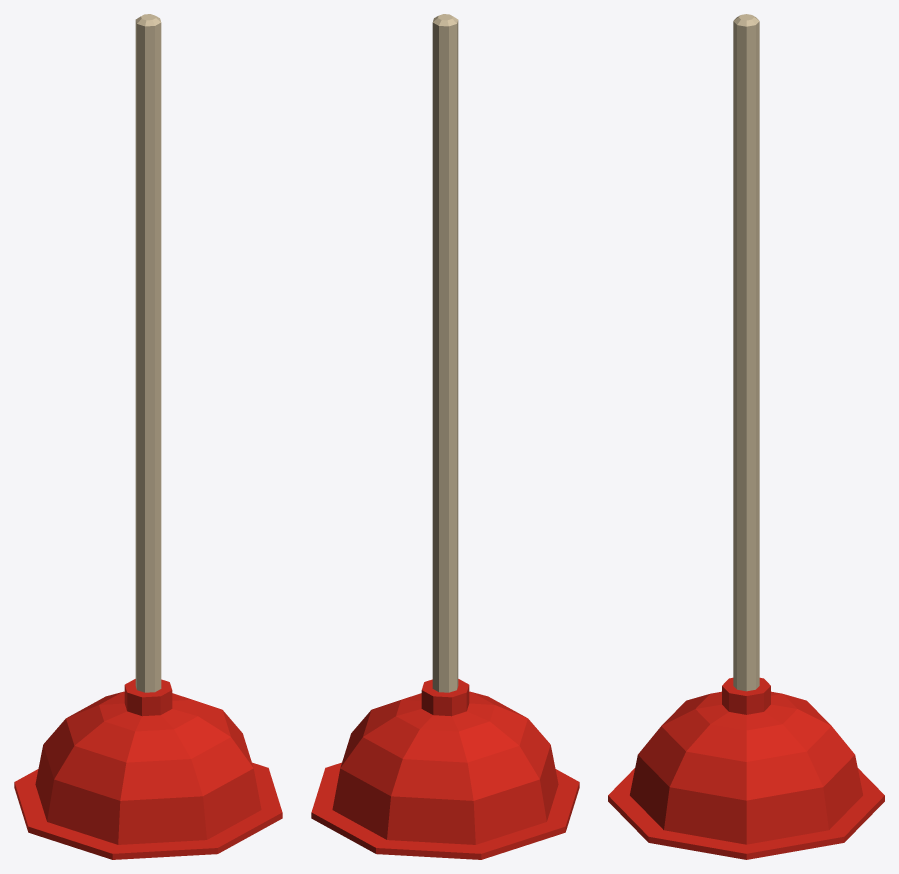
File: Plunger.gltf
3 views of the same model, side by side, from view 1: azimuth 30°, elevation 25°; view 2: azimuth 150°, elevation 25°; view 3: azimuth 270°, elevation 25° (orthographic).
Visible parts, largest first — view 1: node-0; view 2: node-0; view 3: node-0.
Boxes of the visible parts, x1,y1,x2,y2 form: node-0: (14, 14, 282, 859); node-0: (311, 14, 579, 859); node-0: (608, 14, 884, 859).
Size of the model in its own units: 2.54 by 7.95 by 2.54.
